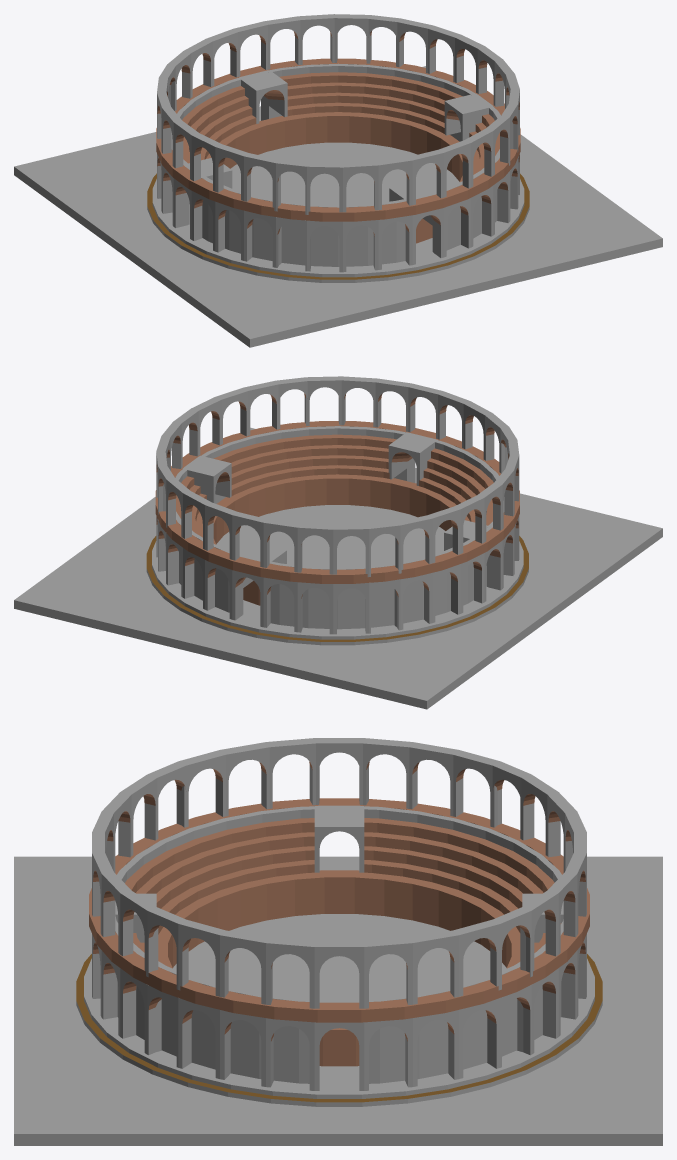
File: ruin.obj
3 renders of one model, top to bottom at view 1: azimuth 30°, elevation 25°; view 2: azimuth 150°, elevation 25°; view 3: azimuth 270°, elevation 25°, orthographic. The views are drawn at different scales.
Visible parts, largest first — view 1: Arena_draft.lwo; view 2: Arena_draft.lwo; view 3: Arena_draft.lwo.
Boxes of the visible parts, box(x1,y1,x2,y2) form: Arena_draft.lwo: box(14, 14, 662, 347); Arena_draft.lwo: box(14, 376, 662, 709); Arena_draft.lwo: box(14, 738, 662, 1145).
Size of the model in its own units: 40.28 by 11.17 by 39.84.
